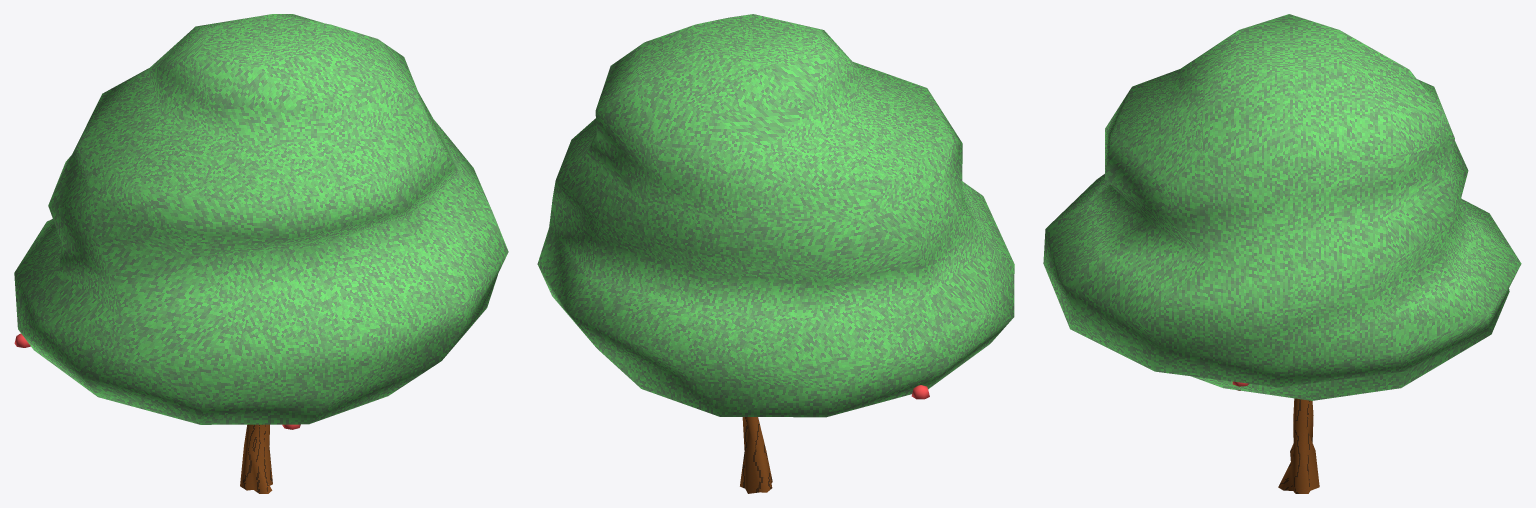
Rendered from apple_tree.glb.
The picture shows the model from 3 angles, left to right: view 1: azimuth 30°, elevation 25°; view 2: azimuth 150°, elevation 25°; view 3: azimuth 270°, elevation 25°; orthographic projection.
Visible parts, largest first — view 1: Foliage001; view 2: Foliage001; view 3: Foliage001.
Boxes of the visible parts, bbox=[...] form: Foliage001: bbox=[14, 14, 508, 493]; Foliage001: bbox=[537, 14, 1014, 493]; Foliage001: bbox=[1043, 14, 1521, 493].
Size of the model in its own units: 4.26 by 4.32 by 4.23.
Materials: 5 (4 with a texture image).
